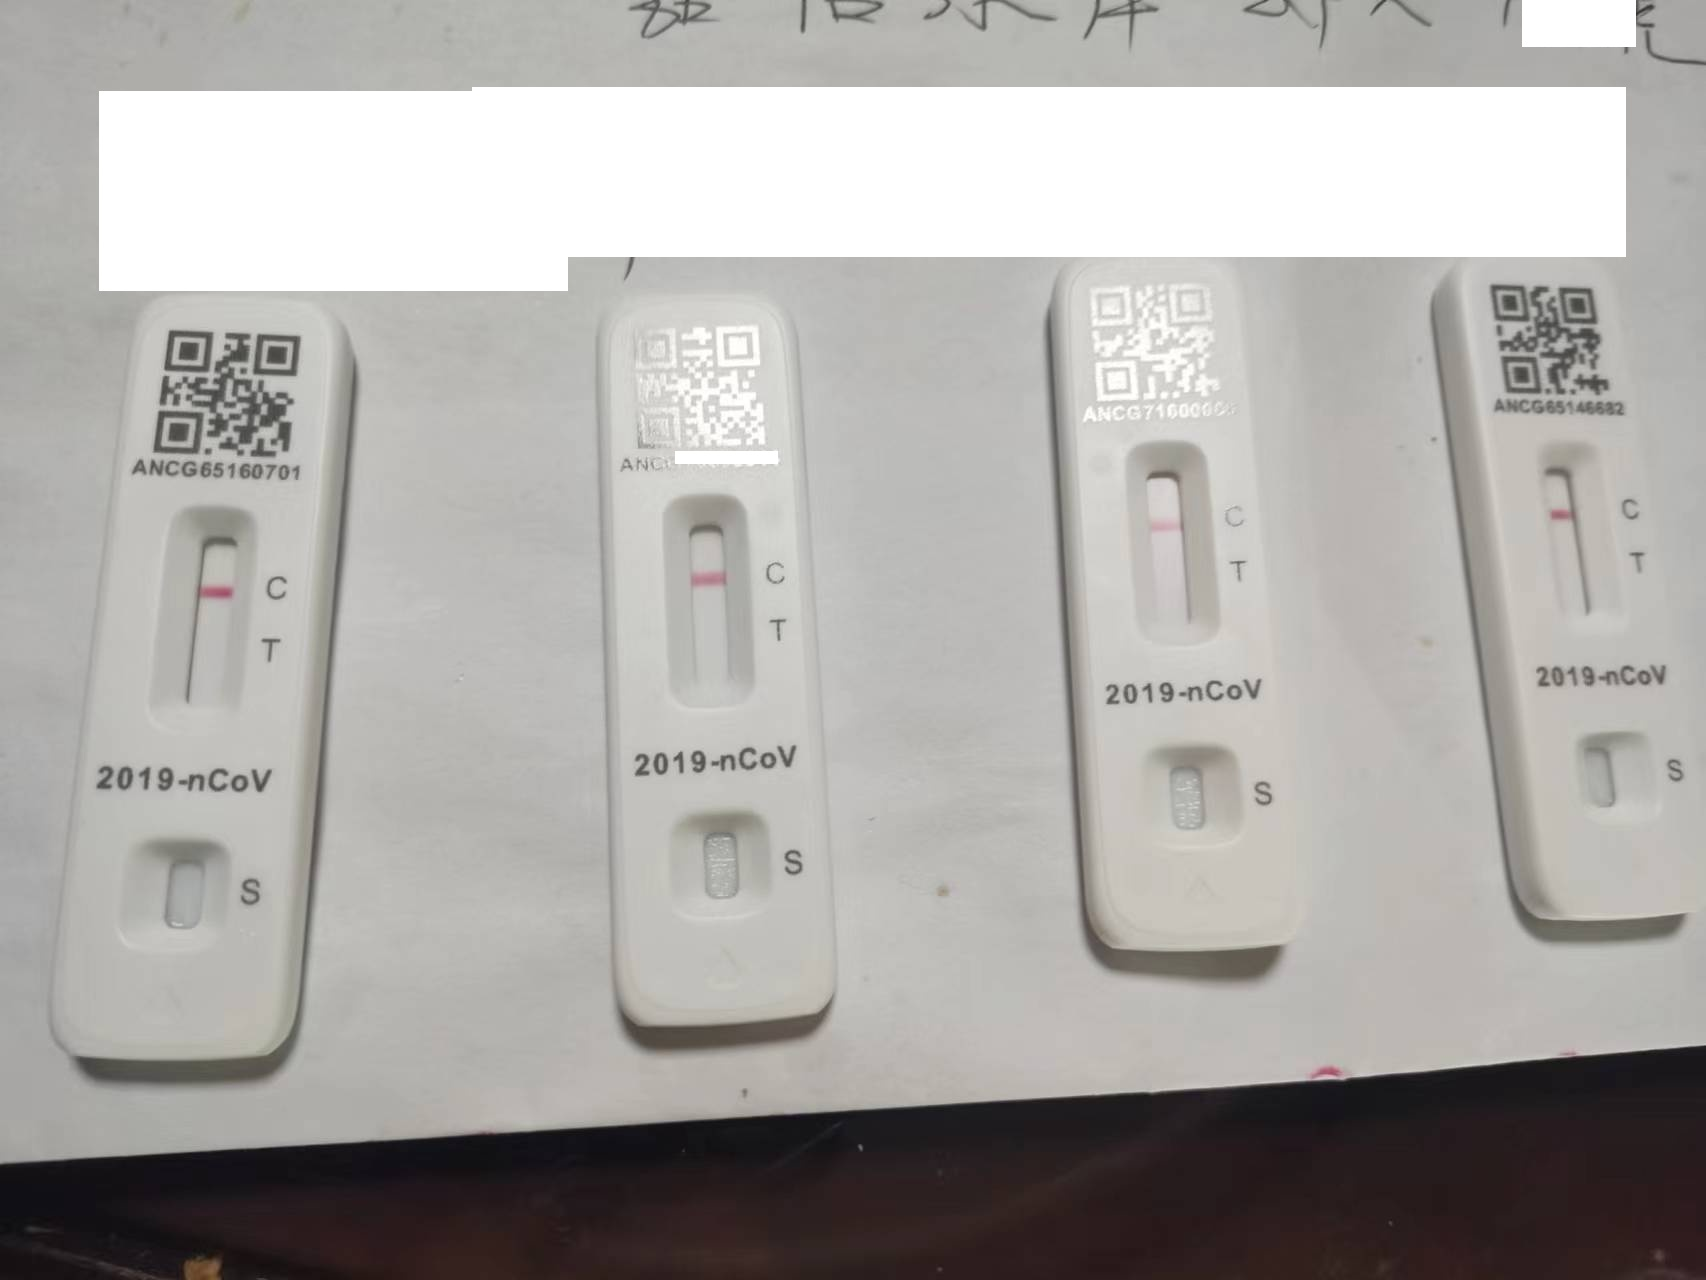negative: (155, 511, 251, 721), (665, 497, 758, 713), (1127, 446, 1223, 644), (1538, 454, 1615, 623)
